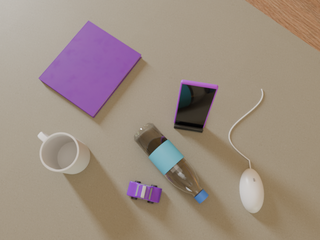book: (39, 21, 141, 118)
bottle: (134, 123, 208, 204)
cup: (38, 132, 90, 174)
mouse: (240, 169, 264, 213)
phone: (174, 80, 218, 128)
toy_car: (127, 181, 162, 204)
